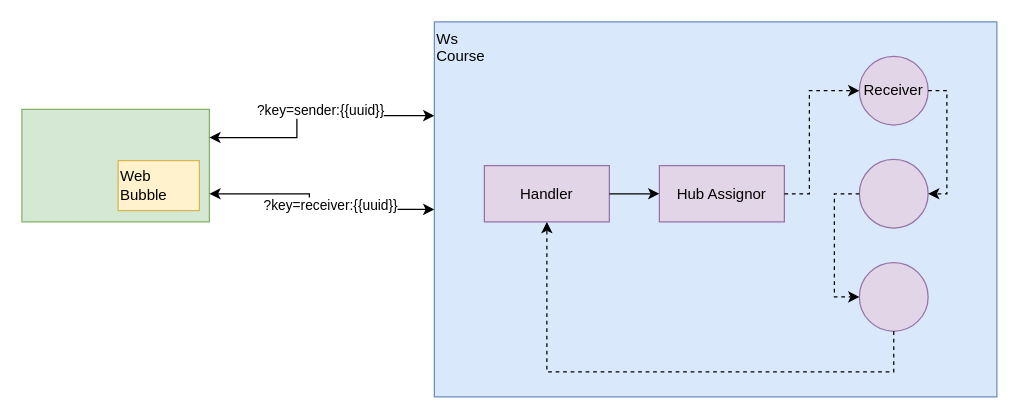
Image size: 1019x419. Some labels were removed from this diagram. The shapes that lost their labels are listed below. From the top down, each one's box as (x1, y1, x2, y2) in pixels, then its label:
(21, 108, 209, 222): Web Playground
(858, 158, 928, 228): Process
(858, 261, 928, 331): Sender
